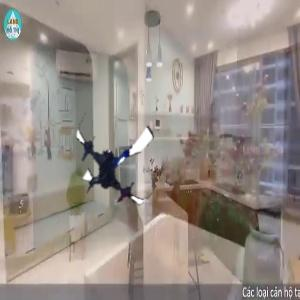drone: (64, 105, 171, 212)
